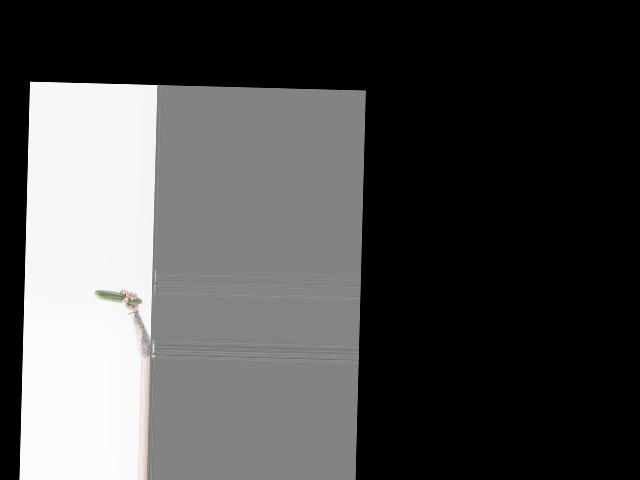cucumber: (93, 289, 142, 304)
